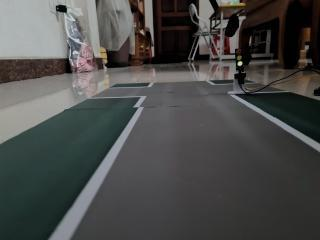green: (229, 44, 249, 75)
